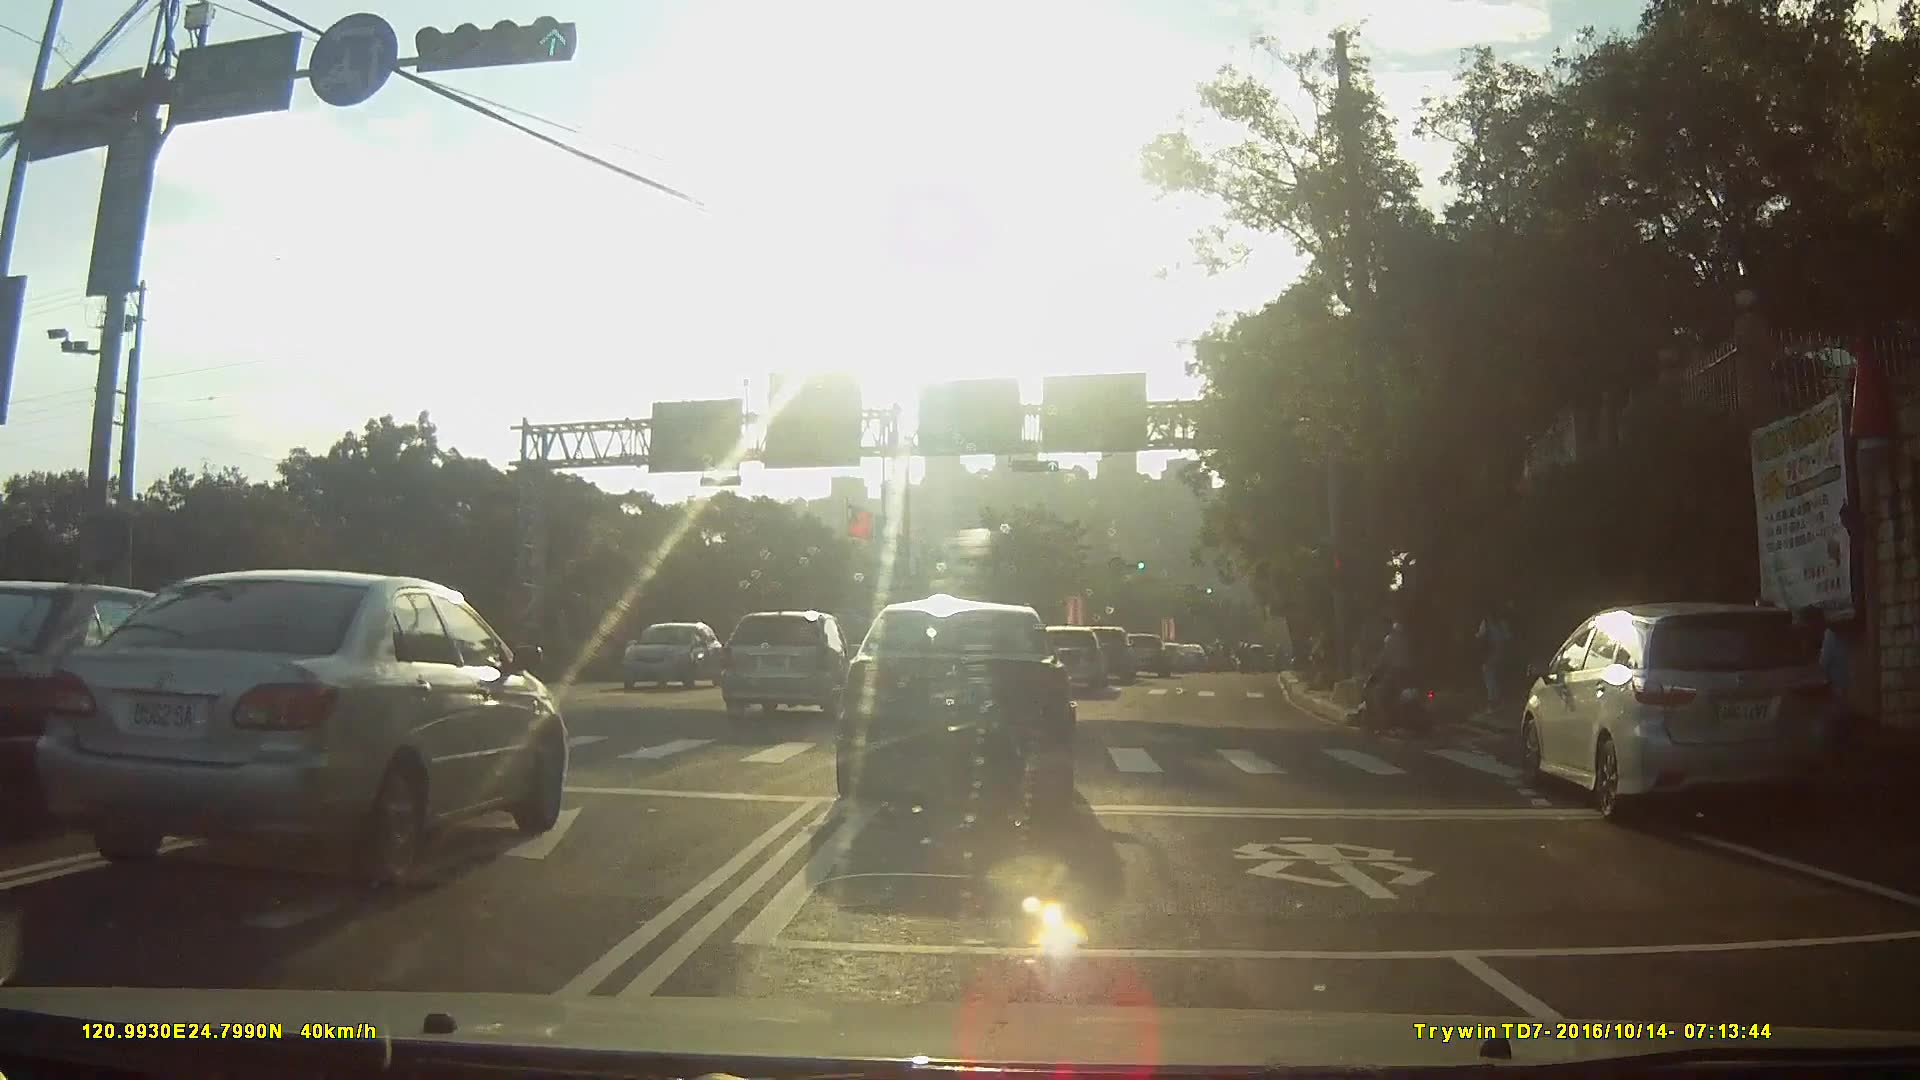pedestrian: (1805, 598, 1879, 735), (1474, 594, 1524, 718)
rider: (1357, 616, 1453, 739)
vehicle: (43, 566, 581, 884), (1501, 594, 1836, 836), (826, 598, 1094, 816), (1, 569, 215, 833), (729, 604, 874, 715), (617, 618, 740, 695), (1044, 623, 1118, 693), (1083, 620, 1145, 678), (1124, 628, 1182, 674), (1184, 639, 1218, 667)
